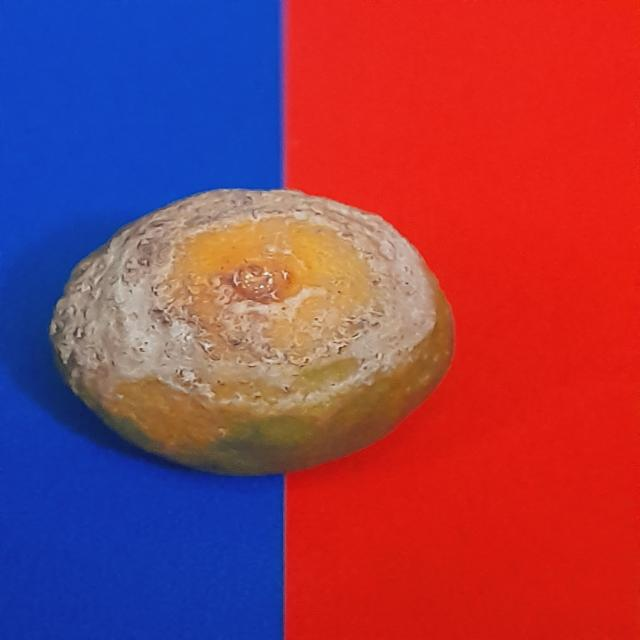thrips: (39, 181, 472, 485)
